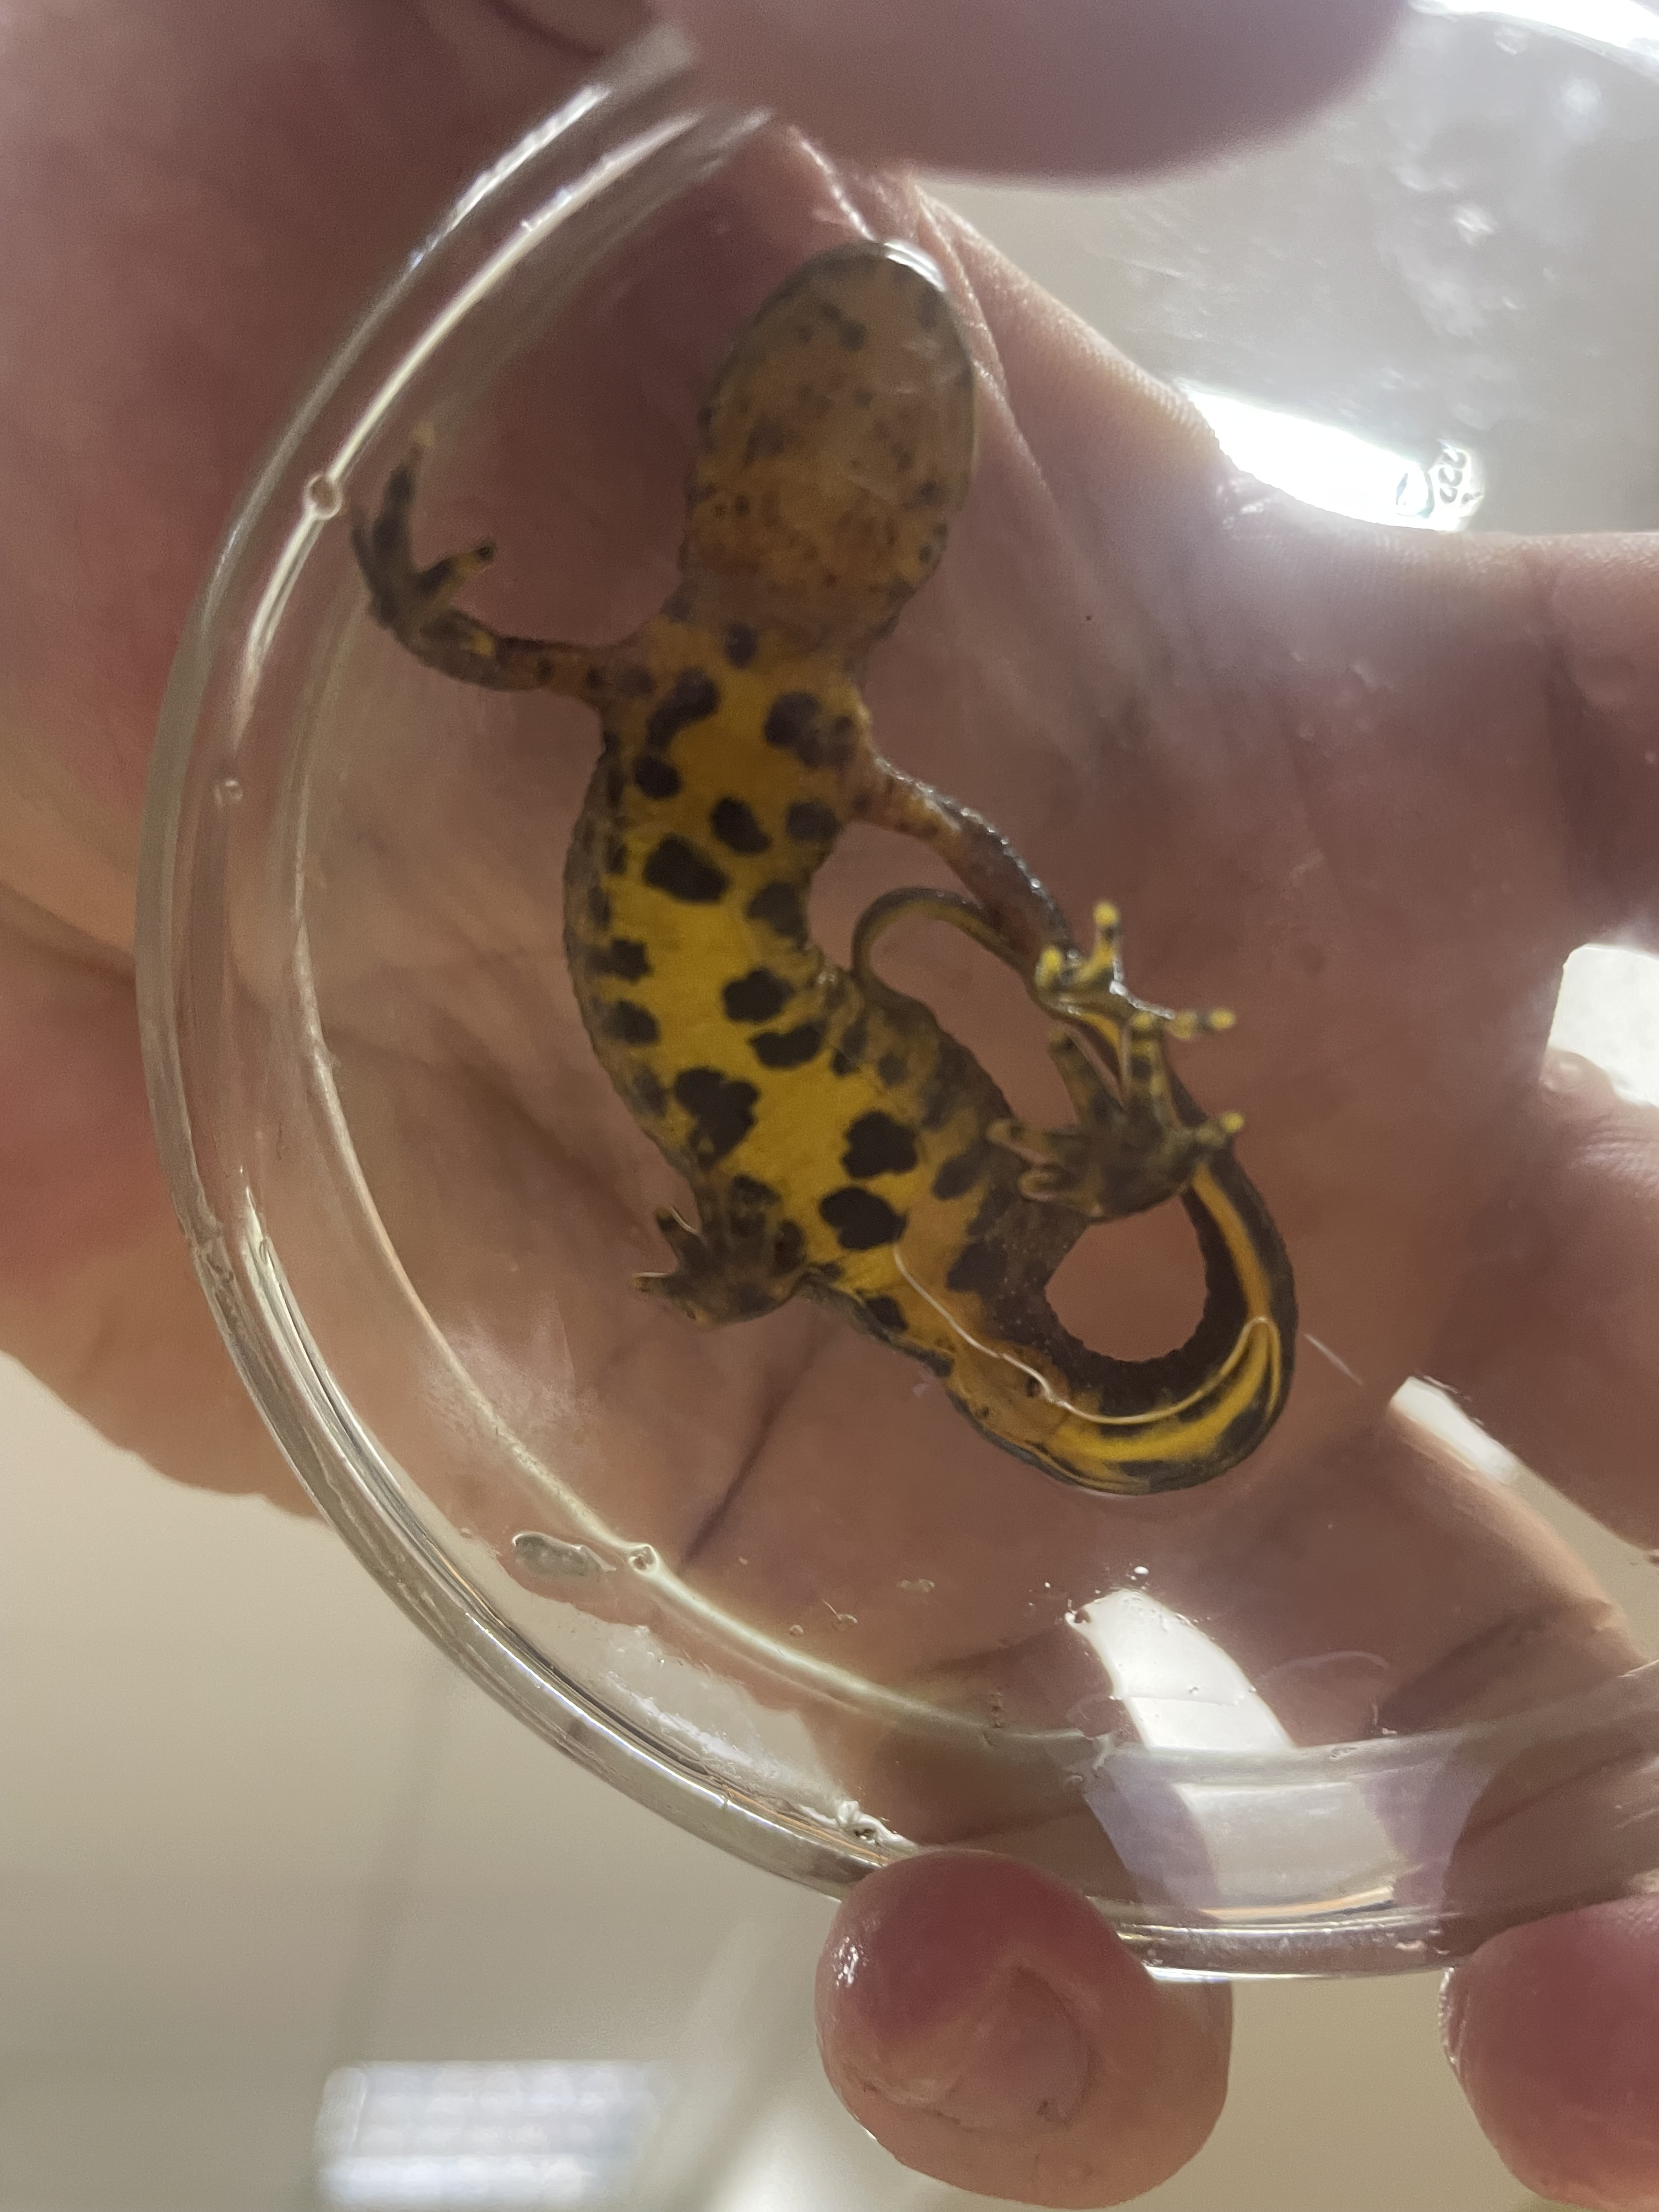Karelin_newt: (565, 709, 1037, 1221)
